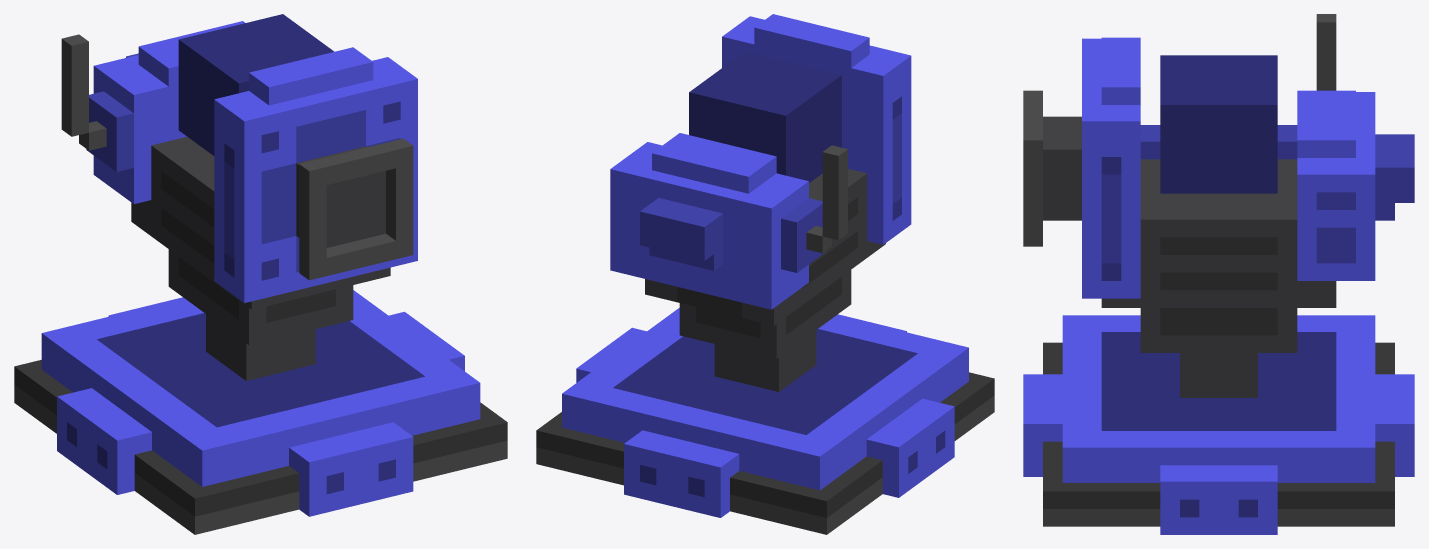
The model's file is Turret(Tower_Defens)-7.glb.
The picture shows the model from 3 angles, left to right: view 1: azimuth 30°, elevation 25°; view 2: azimuth 150°, elevation 25°; view 3: azimuth 270°, elevation 25°; orthographic projection. The views are drawn at different scales.
Bounding box in the file's own units: 2 × 2.2 × 2.
Materials: 1 (1 with a texture image).
